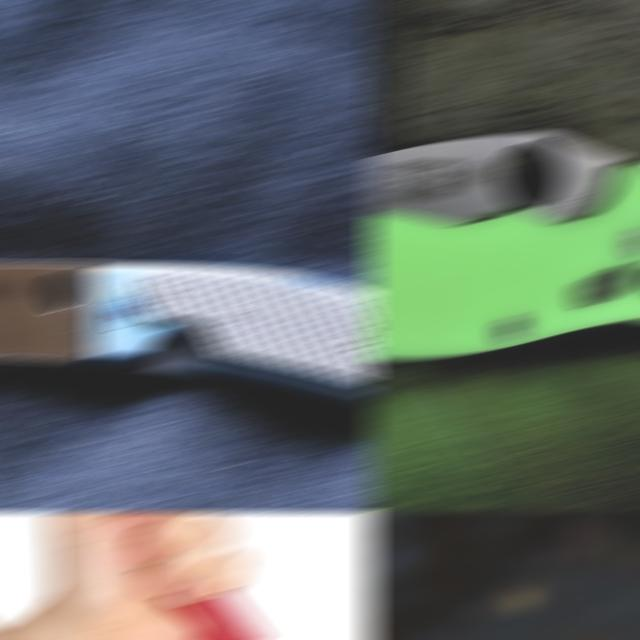Knife_Handle: (430, 513, 640, 639)
